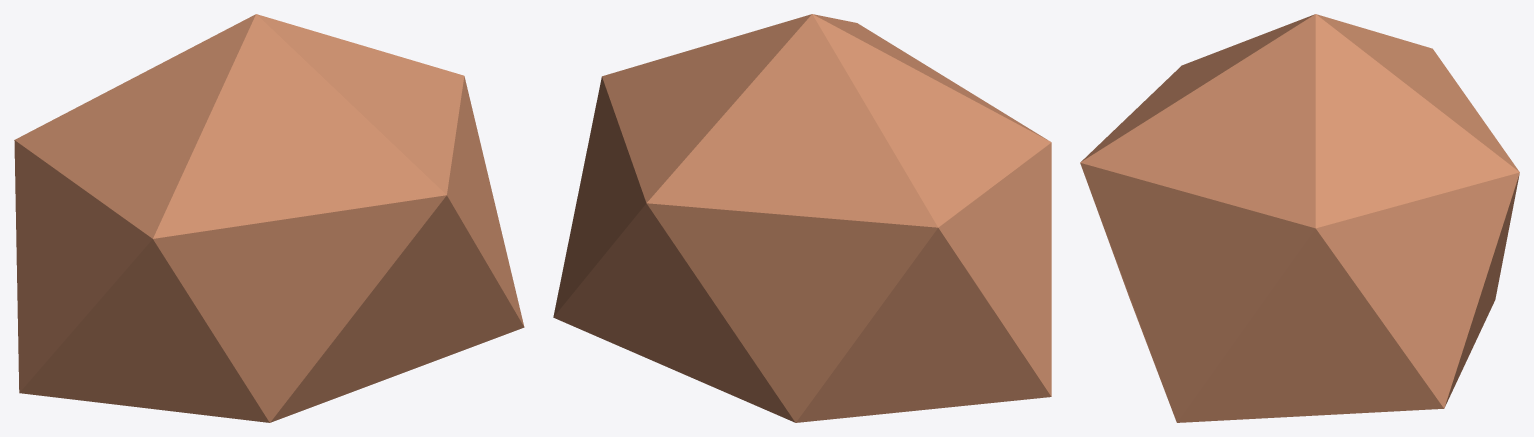
The model's file is Rock_01.glb.
The picture shows the model from 3 angles, left to right: view 1: azimuth 30°, elevation 25°; view 2: azimuth 150°, elevation 25°; view 3: azimuth 270°, elevation 25°; orthographic projection.
Parts seen in each view (by area): view 1: Eroded Mars boulder; view 2: Eroded Mars boulder; view 3: Eroded Mars boulder.
Part boxes in pixels (x1=…): Eroded Mars boulder: x1=14, y1=14, x2=524, y2=422; Eroded Mars boulder: x1=553, y1=14, x2=1051, y2=422; Eroded Mars boulder: x1=1080, y1=14, x2=1519, y2=422.
Size of the model in its own units: 0.4834 by 0.3334 by 0.4131.
